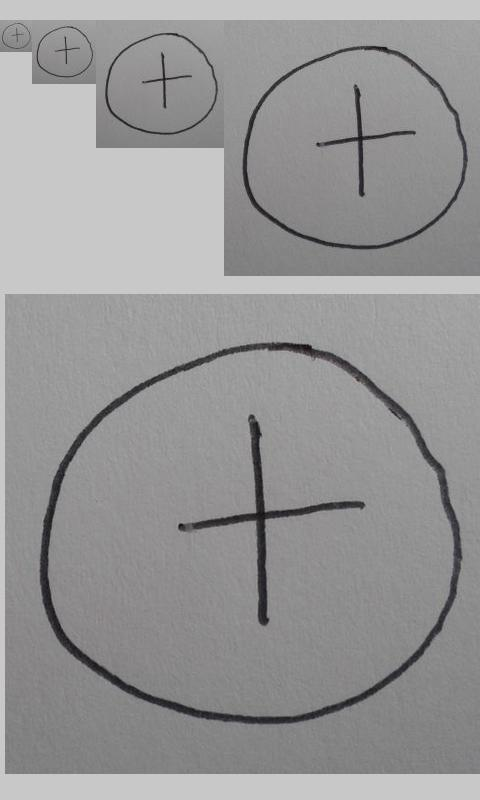button: (38, 339, 463, 726), (241, 43, 469, 250), (104, 31, 220, 136), (36, 25, 94, 78), (2, 22, 31, 50)
